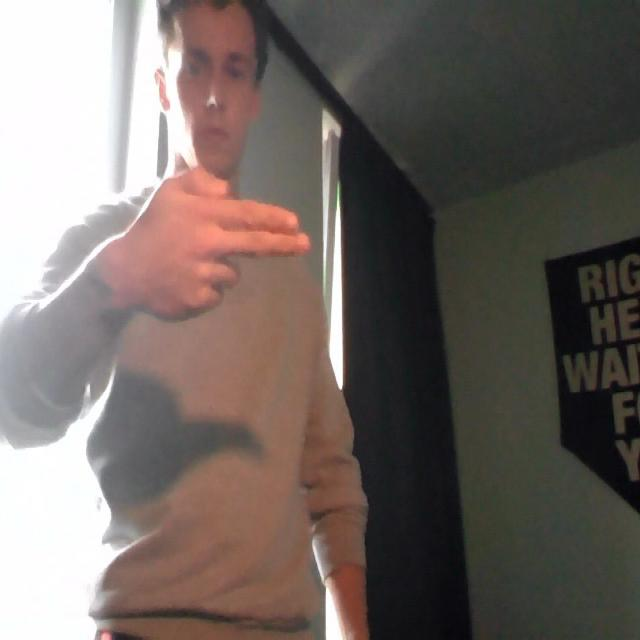right: (82, 154, 314, 328)
